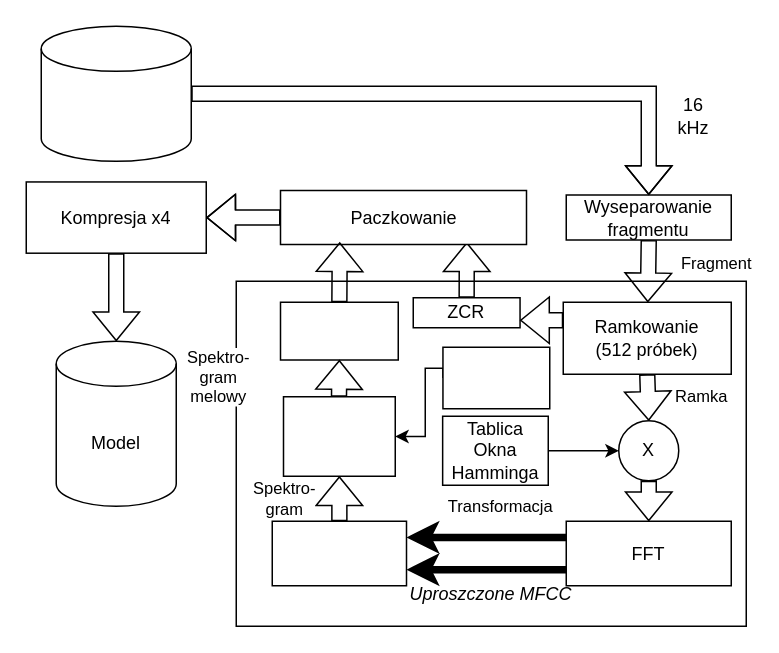
Image size: 779x653. Some labels were removed from this diagram. The shapes that lost their labels are listed below. From the top down, each one's centre as x and y in pixels, then its label:
(x=115, y=93): Baza "mini_speech_ commands"
(x=338, y=330): Normalizacja
(x=495, y=377): Tablica Skali melowej
(x=338, y=435): Mel Transformer
(x=338, y=553): Moduł
